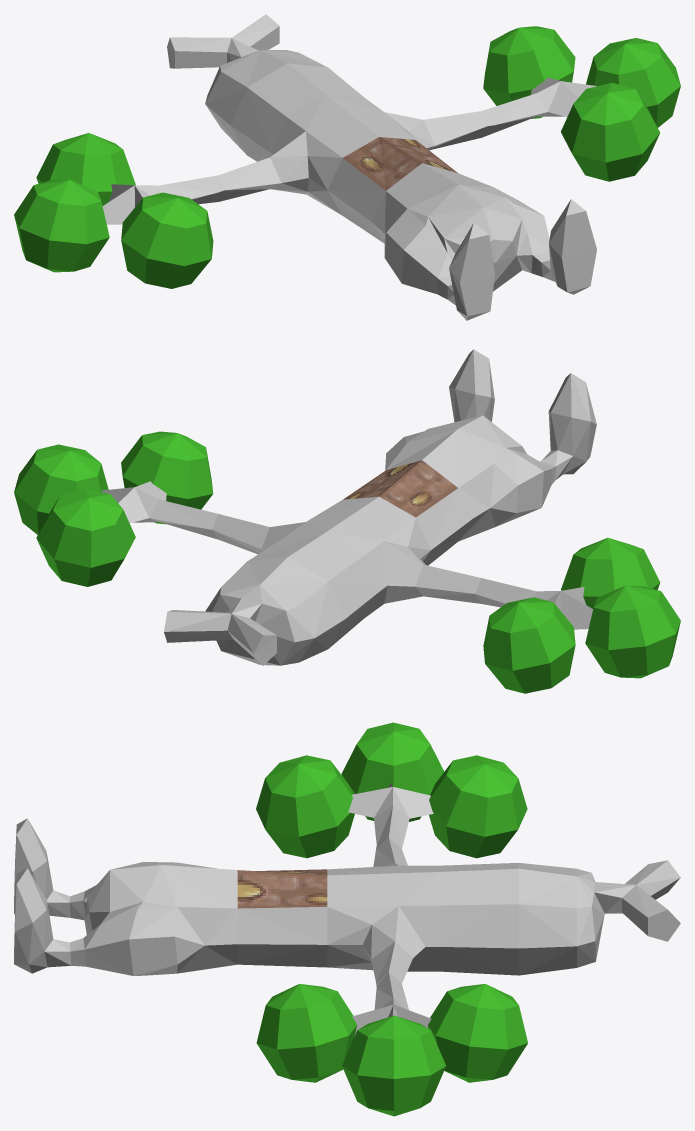
Rendered from BR_Sudowoodo-Shiny03.obj.
3 renders of one model, top to bottom at view 1: azimuth 30°, elevation 25°; view 2: azimuth 150°, elevation 25°; view 3: azimuth 270°, elevation 25°, orthographic. The views are drawn at different scales.
Visible parts, largest first — view 1: usokkie; view 2: usokkie; view 3: usokkie.
Boxes of the visible parts, <box> form: usokkie: <box>14,14,680,320</box>; usokkie: <box>14,349,680,693</box>; usokkie: <box>14,722,680,1116</box>.
Bounding box in the file's own units: 13.42 × 2.38 × 11.27.
